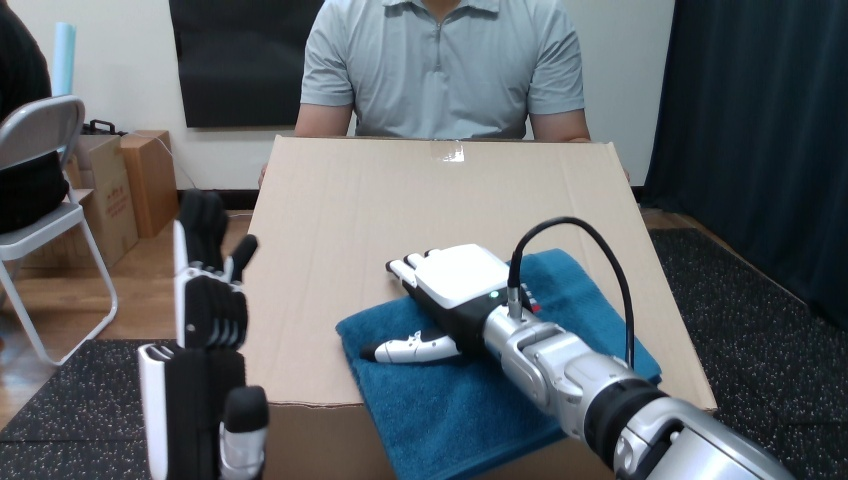left robot hand: (338, 297, 561, 478), (138, 190, 267, 479), (524, 250, 623, 356)
